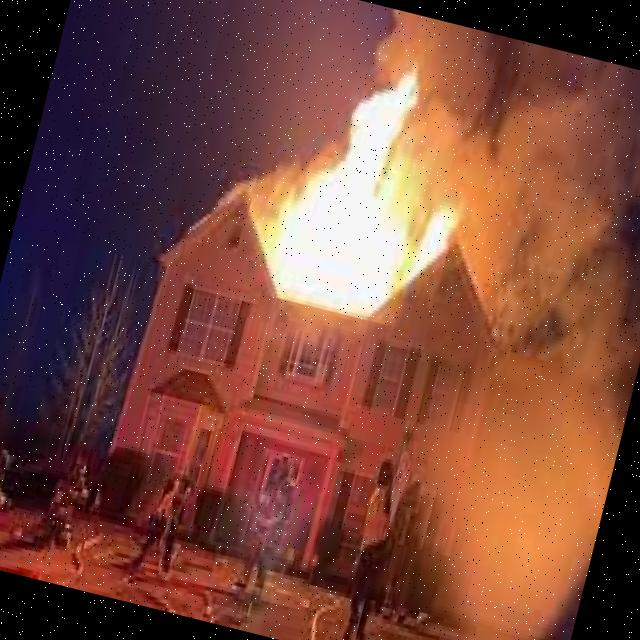fire: (230, 0, 501, 334)
